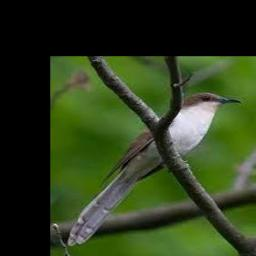Cuckoo: (69, 92, 242, 246)
